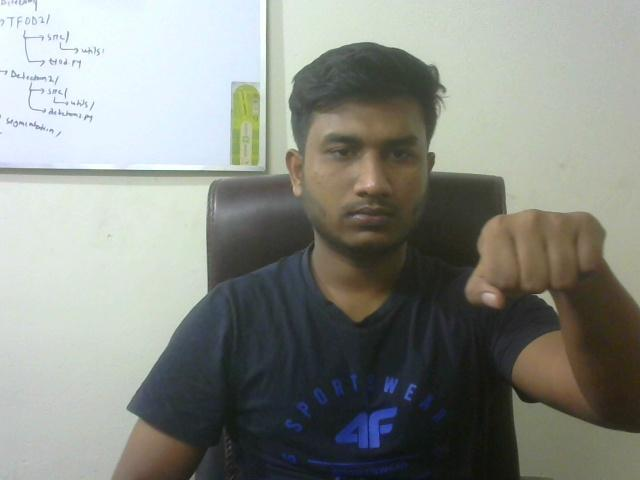Yes: (457, 188, 629, 331)
